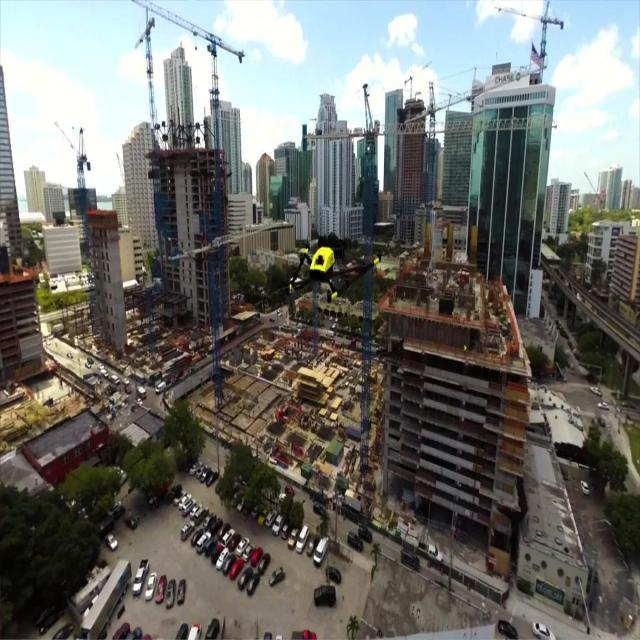drone: (290, 231, 384, 306)
